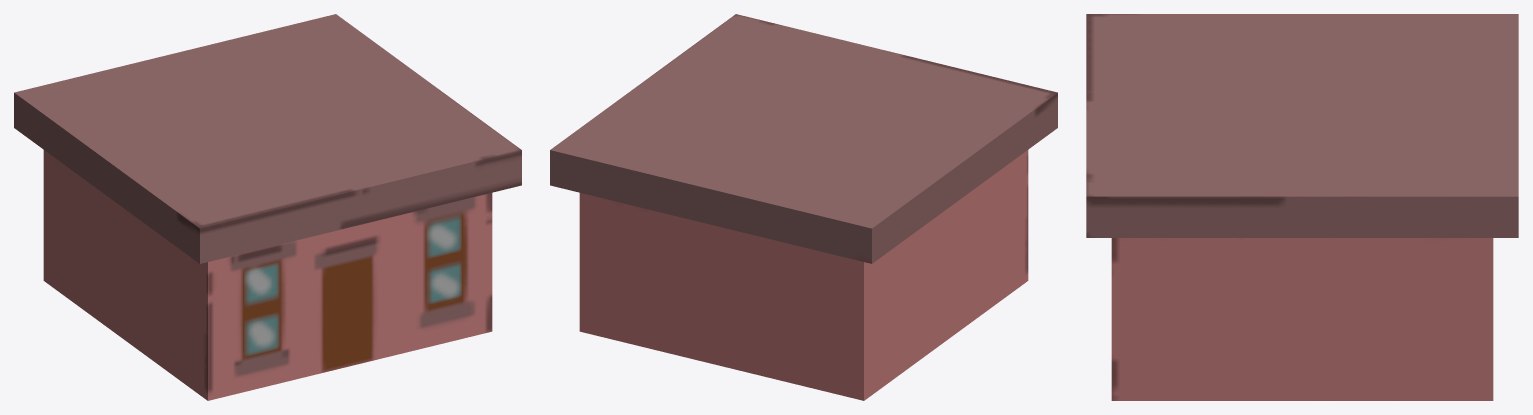
Rendered from PRP_Building_03.fbx.
3 views of the same model, side by side, from view 1: azimuth 30°, elevation 25°; view 2: azimuth 150°, elevation 25°; view 3: azimuth 270°, elevation 25° (orthographic). The views are drawn at different scales.
Parts seen in each view (by area): view 1: Cube.113; view 2: Cube.113; view 3: Cube.113.
Boxes of the visible parts, box(x1,y1,x2,y2) form: Cube.113: box(14, 14, 521, 400); Cube.113: box(550, 14, 1057, 400); Cube.113: box(1086, 14, 1518, 400).
Size of the model in its own units: 871 by 478 by 871.
